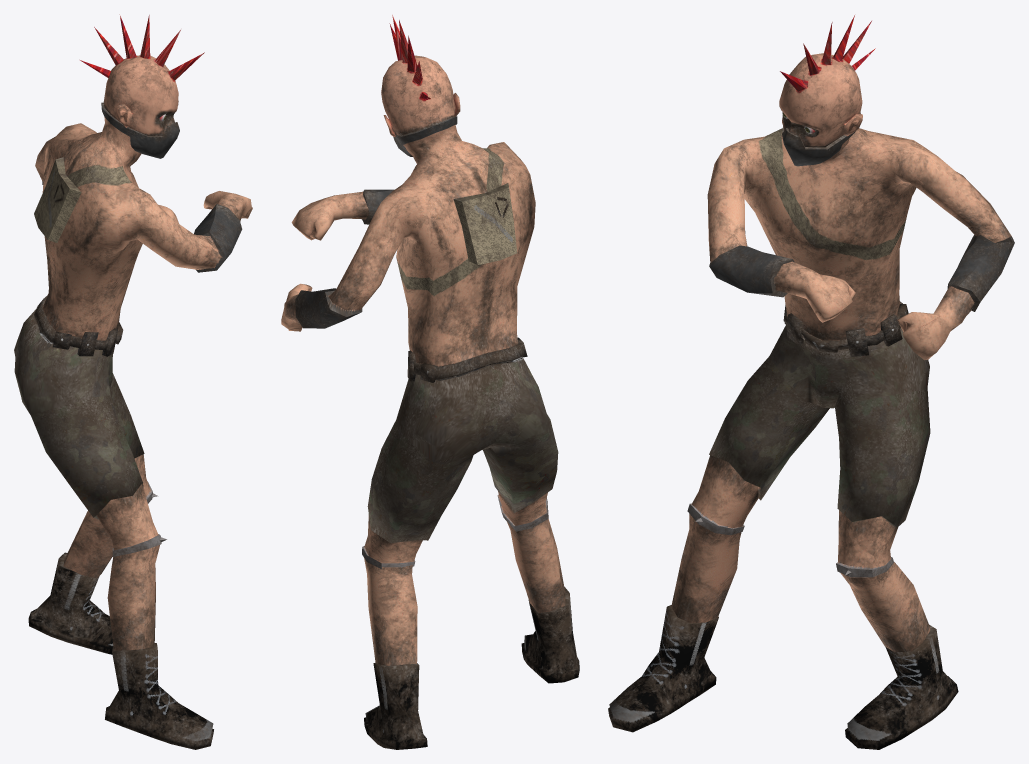
Rendered from Anim_arma_cc_npc2.0011.obj.
3 renders of one model, left to right at view 1: azimuth 30°, elevation 25°; view 2: azimuth 150°, elevation 25°; view 3: azimuth 270°, elevation 25°, orthographic. The views are drawn at different scales.
Visible parts, largest first — view 1: polySurface1; view 2: polySurface1; view 3: polySurface1.
Boxes of the visible parts, box(x1,y1,x2,y2) form: polySurface1: box(14, 14, 252, 749); polySurface1: box(281, 15, 579, 749); polySurface1: box(608, 15, 1014, 749).
Size of the model in its own units: 3.64 by 9.74 by 4.95.
